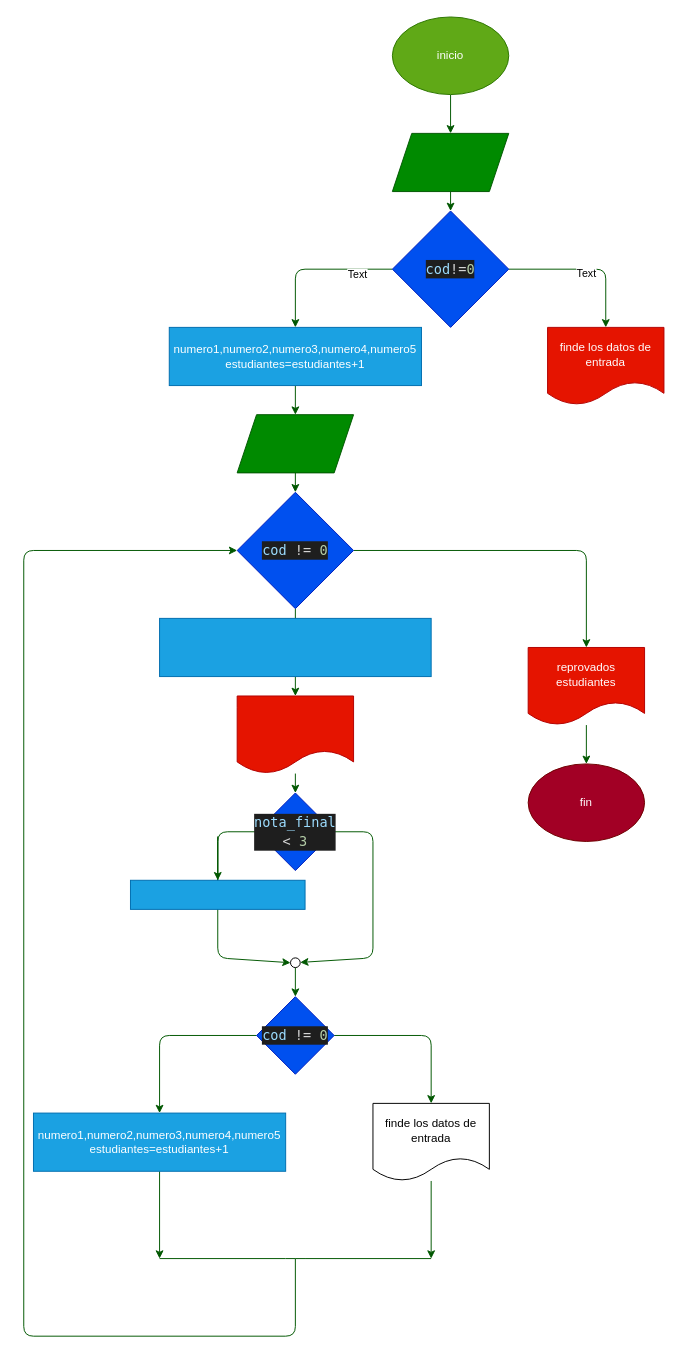
This 681x1361 diagram has some shape labels left out. Each missing label, with the centre of its shape:
cod nota_final: (x=295, y=734)
cod. estudiantes=0: (x=450, y=162)
nota_final = ( nota1 + nota2 + nota3 + nota4 + nota5 )/ 5: (x=295, y=647)
reprovados=0: (x=295, y=443)
reprovados=reprovados+1: (x=217, y=894)
